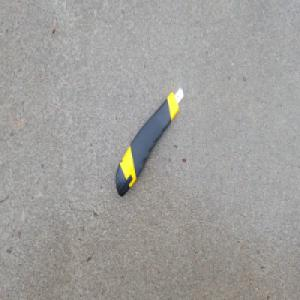Cutter: (114, 84, 185, 199)
